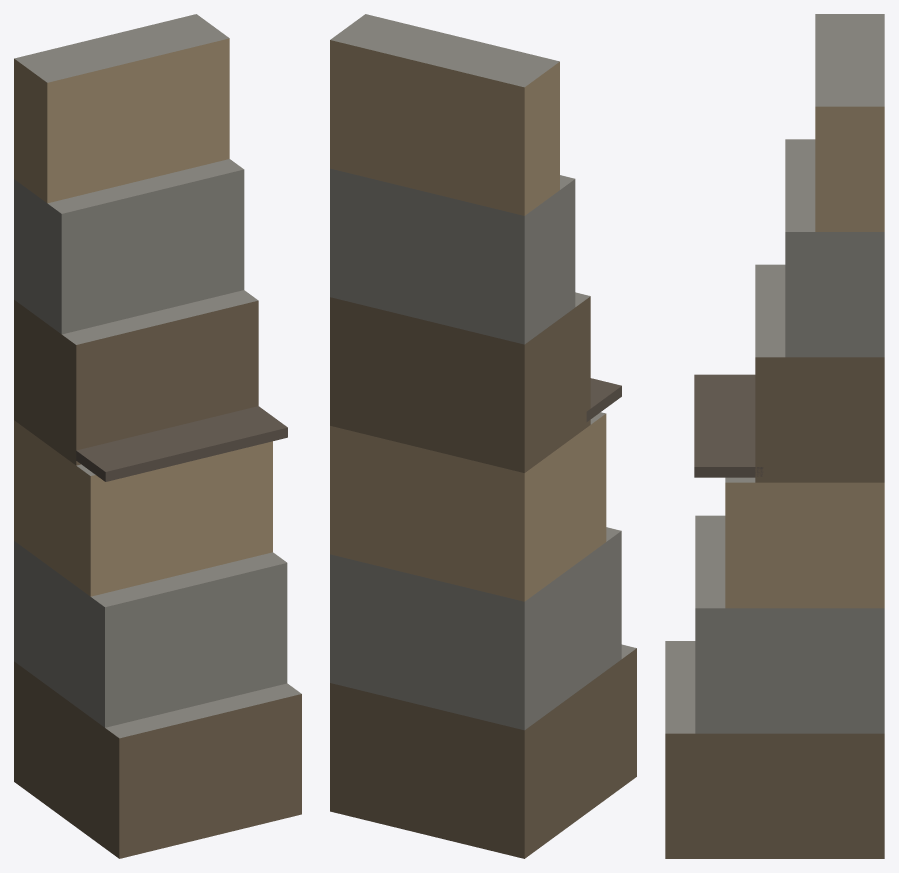
The model's file is banco_rajo_alto.obj.
3 renders of one model, left to right at view 1: azimuth 30°, elevation 25°; view 2: azimuth 150°, elevation 25°; view 3: azimuth 270°, elevation 25°, orthographic. The views are drawn at different scales.
Parts seen in each view (by area): view 1: banco_rajo_alto; view 2: banco_rajo_alto; view 3: banco_rajo_alto.
Part boxes in pixels (x1,y1,x2,y2): banco_rajo_alto: (14,14,301,858); banco_rajo_alto: (330,14,636,858); banco_rajo_alto: (665,14,884,858).
Size of the model in its own units: 19 by 72 by 19.
